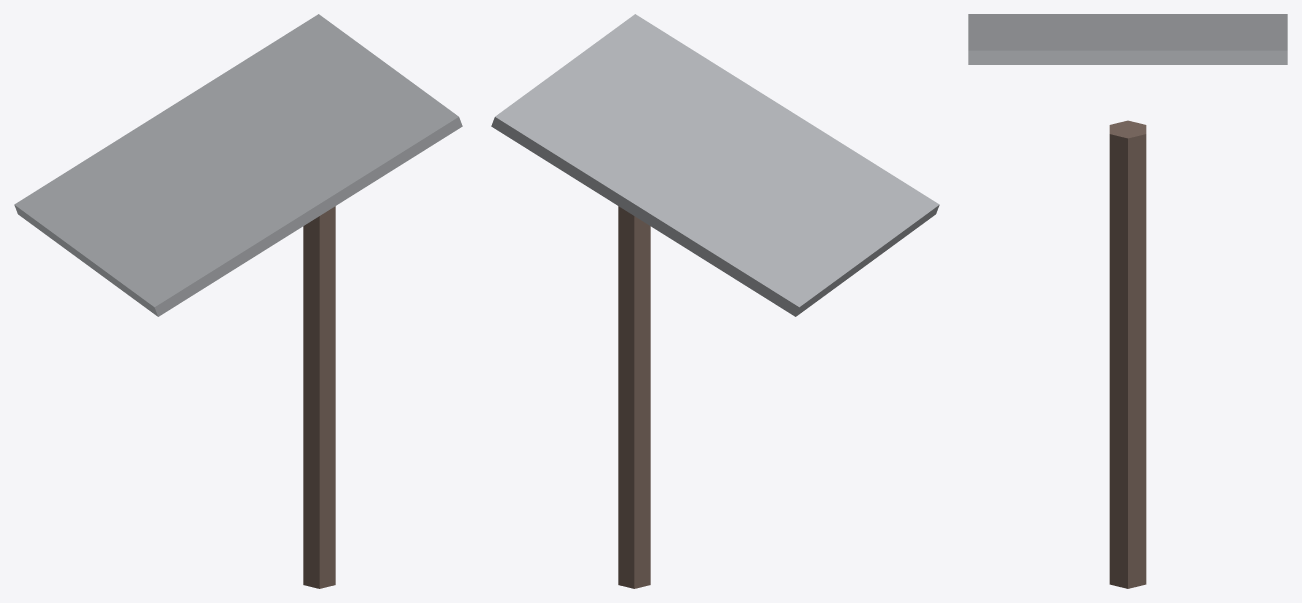
The model's file is scrap_metal.glb.
The picture shows the model from 3 angles, left to right: view 1: azimuth 30°, elevation 25°; view 2: azimuth 150°, elevation 25°; view 3: azimuth 270°, elevation 25°; orthographic projection. The views are drawn at different scales.
Visible parts, largest first — view 1: geometry_0; view 2: geometry_0; view 3: geometry_0.
Boxes of the visible parts, box(x1,y1,x2,y2) form: geometry_0: box(14, 14, 462, 588); geometry_0: box(491, 14, 939, 588); geometry_0: box(968, 14, 1287, 588).
Bounding box in the file's own units: 1.14 × 1.76 × 0.9.
